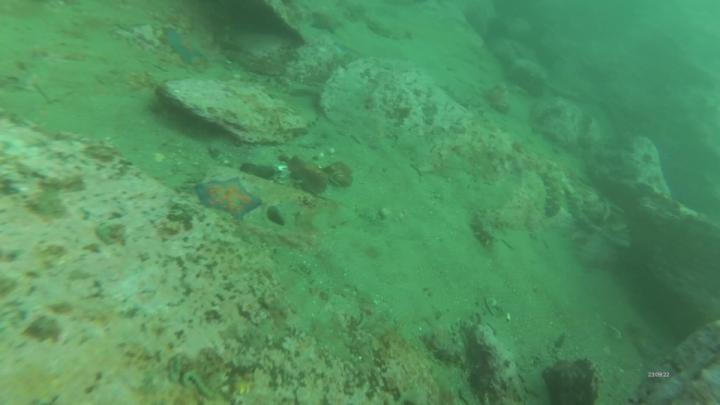holothurian: (474, 205, 512, 251), (544, 164, 568, 223)
starfish: (194, 173, 265, 223), (163, 28, 207, 66)
